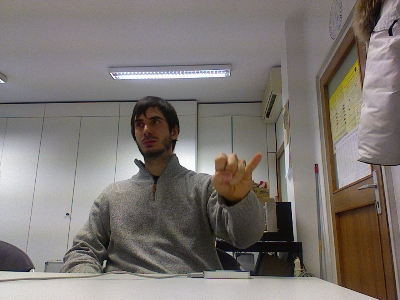小指: (210, 151, 262, 202)
